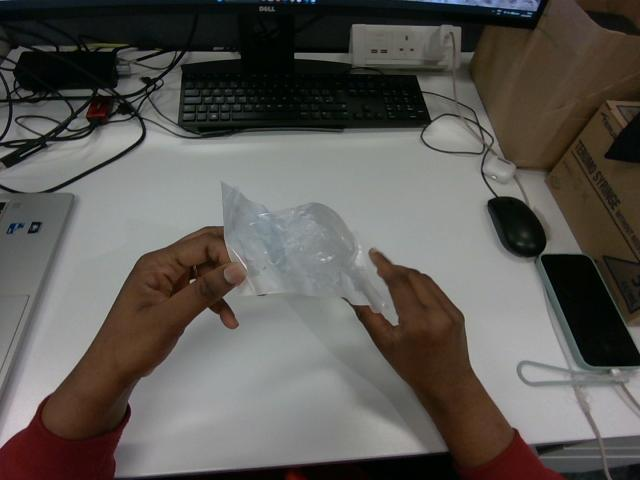gallipot: (222, 183, 385, 311)
